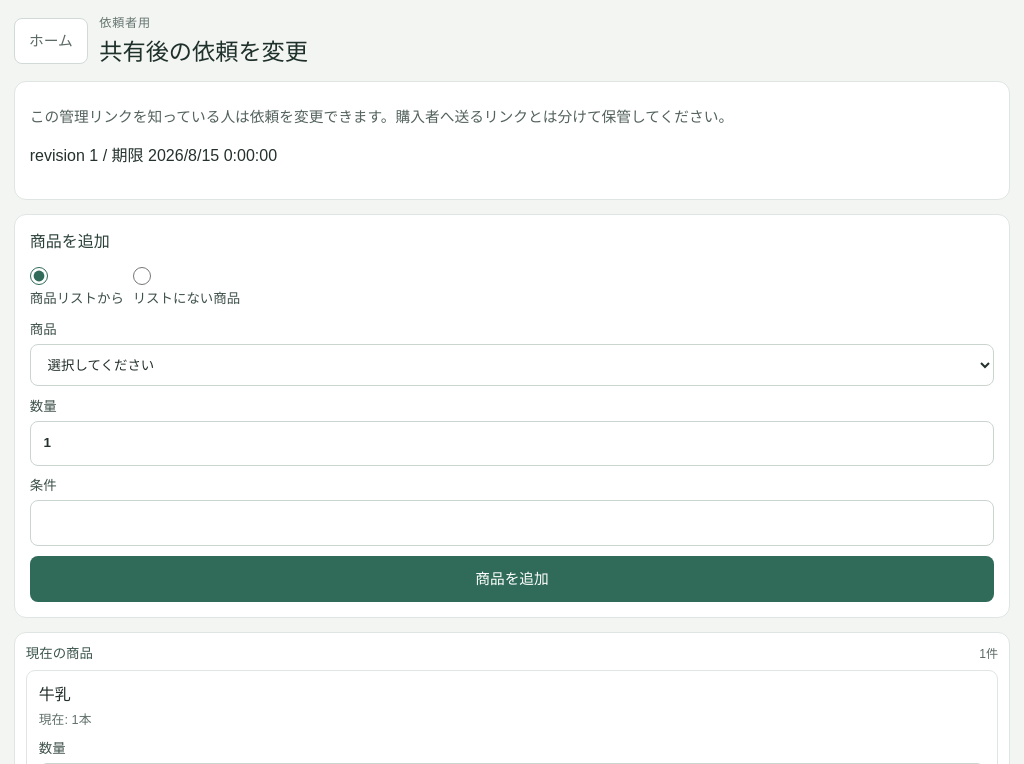
Test: LiveRequestManagePage › keeps an add selection when the update request fails
Select "キャベツ" in the dropdown labelled "商品" at [512, 365], box x1=30 y1=344 x2=994 y2=386
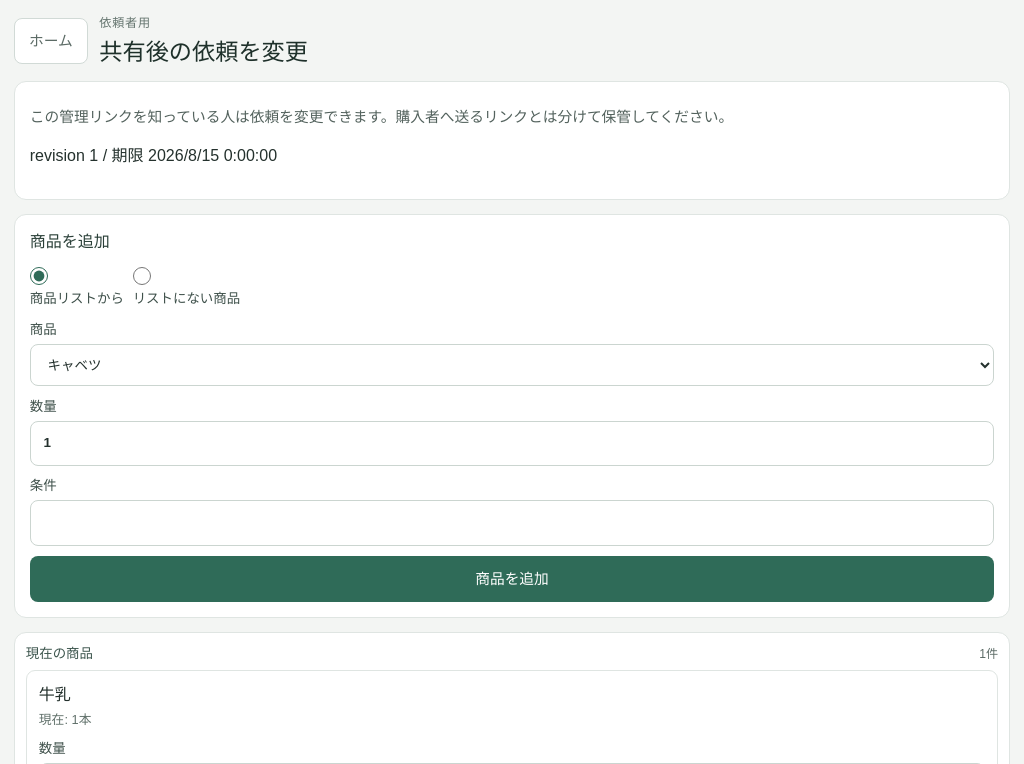
Click the button "商品を追加".
click(512, 579)  # box x1=30 y1=556 x2=994 y2=602
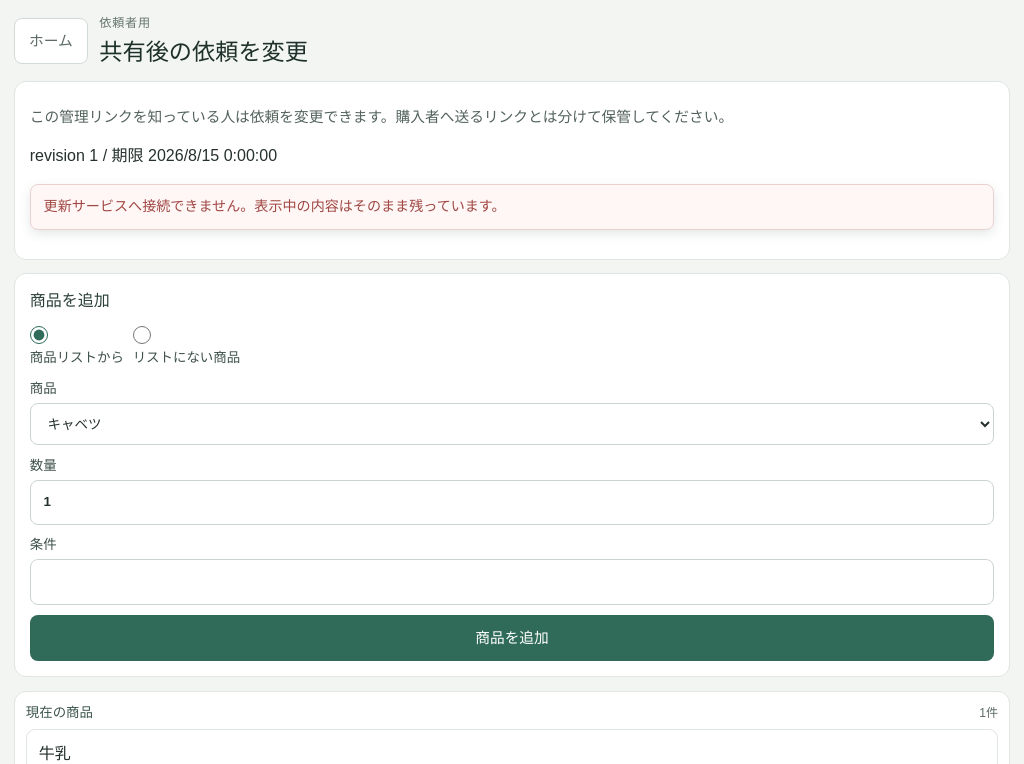
Now the text "更新サービスへ接続できません" is shown, box x1=44 y1=198 x2=506 y2=214
